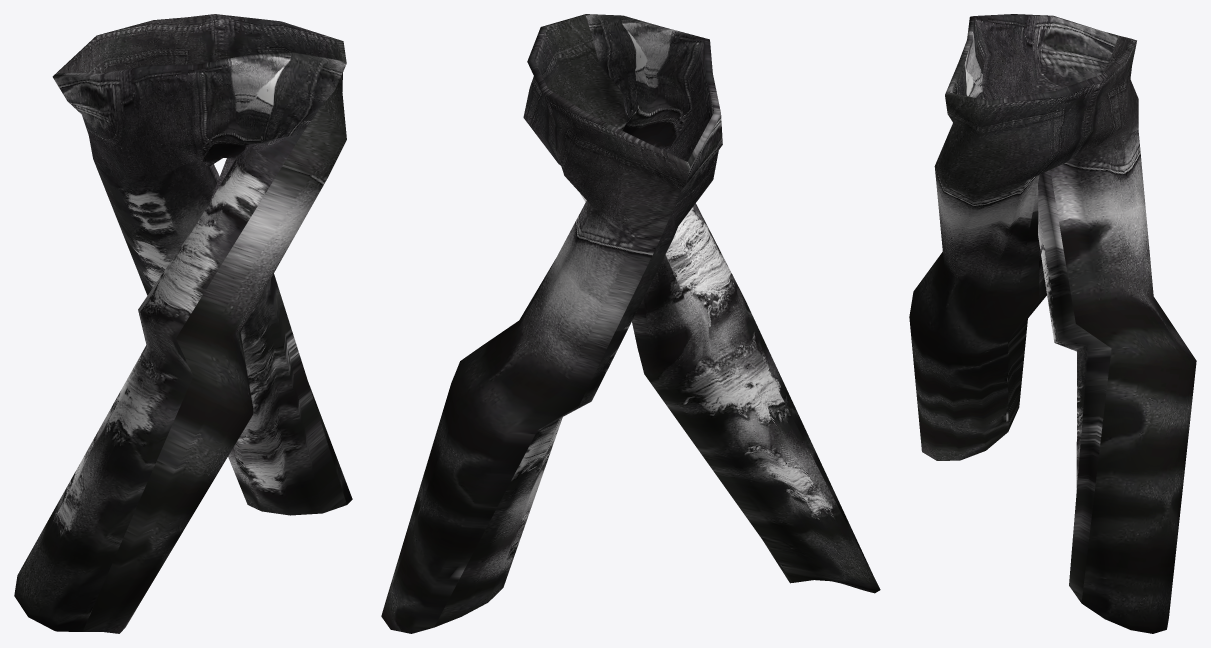
File: m-bottom1.fbx
The picture shows the model from 3 angles, left to right: view 1: azimuth 30°, elevation 25°; view 2: azimuth 150°, elevation 25°; view 3: azimuth 270°, elevation 25°; orthographic projection. The views are drawn at different scales.
Parts seen in each view (by area): view 1: M.Bottom.Long.002; view 2: M.Bottom.Long.002; view 3: M.Bottom.Long.002.
Part boxes in pixels (<box>): M.Bottom.Long.002: <box>14,14,352,633</box>; M.Bottom.Long.002: <box>381,14,880,633</box>; M.Bottom.Long.002: <box>909,14,1196,633</box>.
Size of the model in its own units: 479 by 637 by 319.
